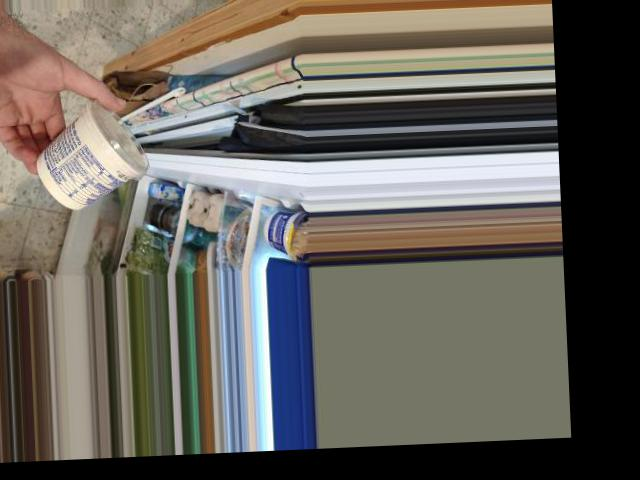cotage: (29, 98, 155, 198)
